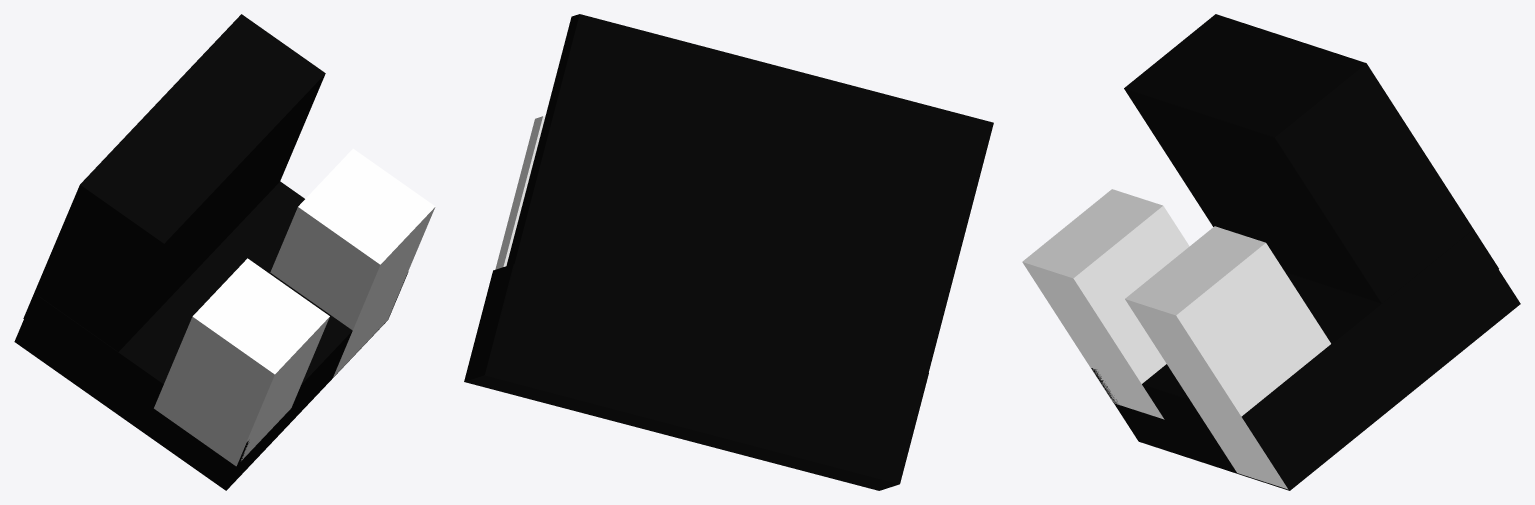
File: yellowmodel1.fbx
3 renders of one model, left to right at view 1: azimuth 30°, elevation 25°; view 2: azimuth 150°, elevation 25°; view 3: azimuth 270°, elevation 25°, orthographic. The views are drawn at different scales.
Visible parts, largest first — view 1: node_id5, node_id8, node_id14, node_id11; view 2: node_id5, node_id8, node_id11; view 3: node_id5, node_id8, node_id11, node_id14.
Boxes of the visible parts, x1,y1,x2,y2 form: node_id5: (23,14,325,351); node_id8: (14,181,408,490); node_id14: (154,258,329,466); node_id11: (270,148,435,377); node_id5: (499,14,993,432); node_id8: (464,264,928,490); node_id11: (495,116,545,269); node_id5: (1124,14,1498,303); node_id8: (1091,230,1520,490); node_id11: (1125,226,1330,489); node_id14: (1022,189,1189,419).
Size of the model in its own units: 0.4815 by 0.512 by 0.5226.
4 materials, 2 textured.
